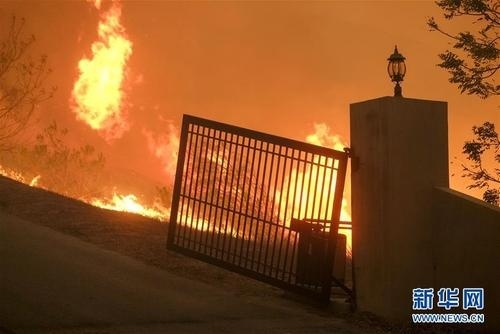fire: (273, 119, 355, 250), (70, 4, 136, 136), (0, 154, 42, 190)
